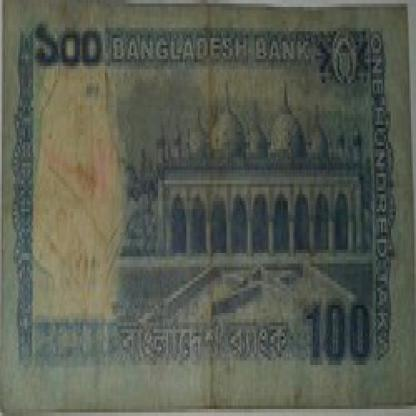one hundred taka: (303, 284, 371, 368), (30, 21, 108, 76)
